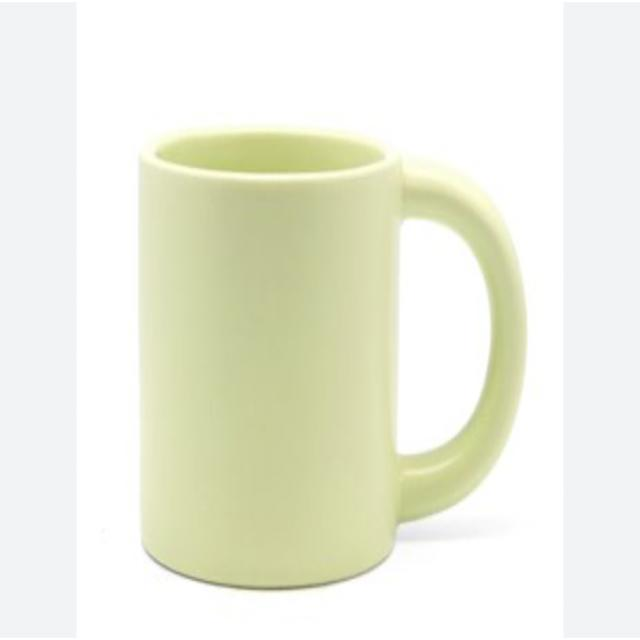recyclable: (113, 93, 542, 604)
